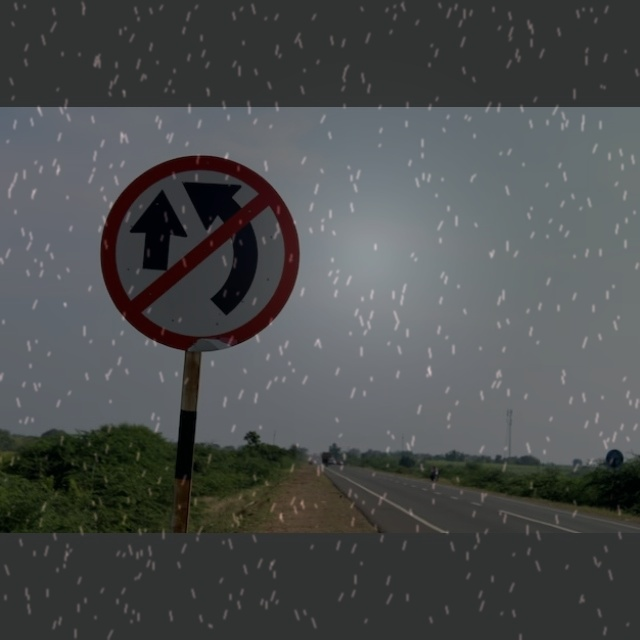Overtaking_Prohibited: (103, 155, 298, 354)
